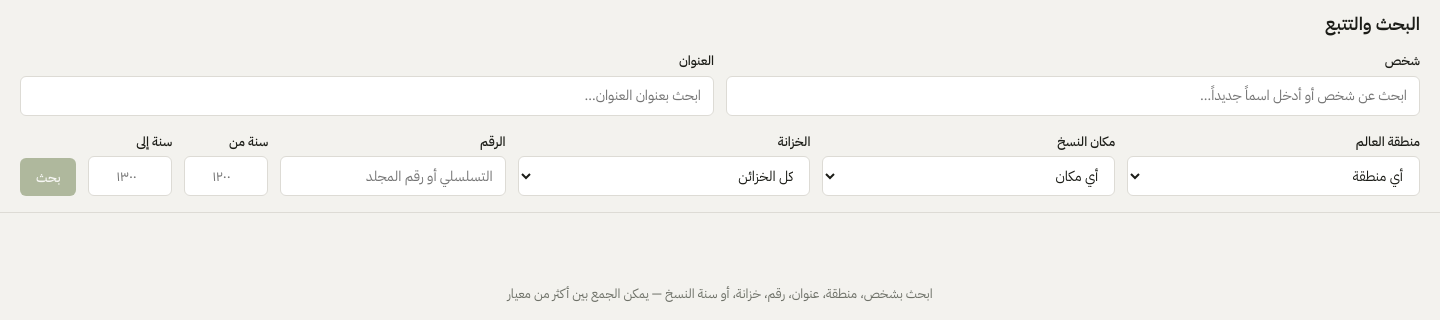
Scenario: TraceScreen — unified filter panel › shows the empty-state message when the search returns no rows
Type "لا يوجد" into the field labelled "العنوان" at (367, 96), box 20,76 -> 714,116
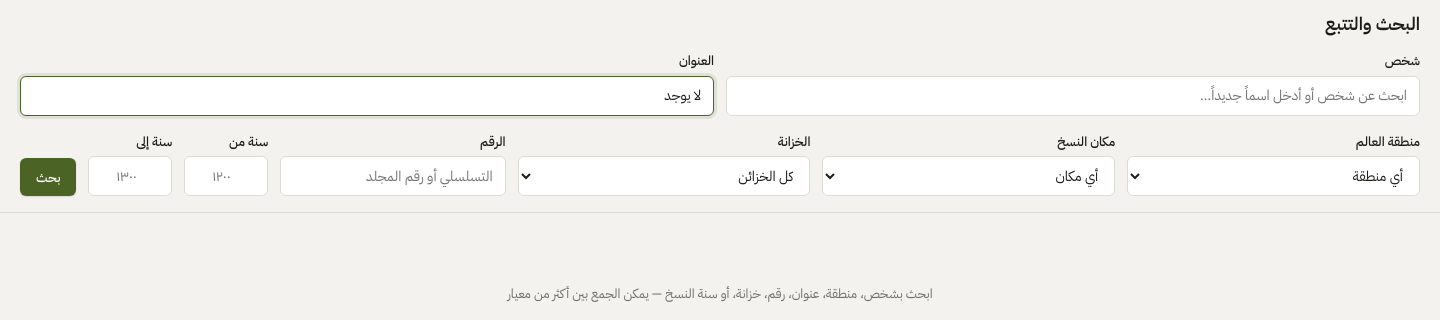
Click the button "بحث" at (48, 177), box 20,158 -> 76,196
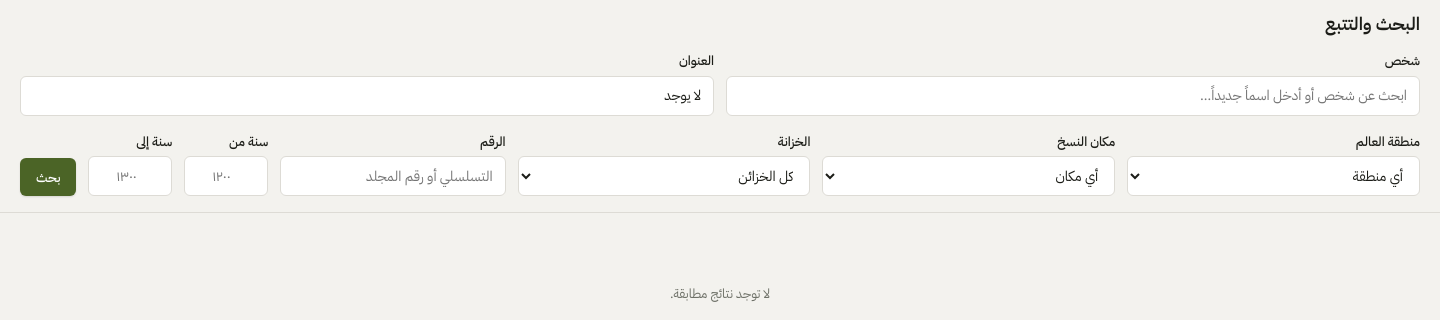
Expected: the text "لا توجد نتائج مطابقة." is shown, 670,284 -> 770,303
